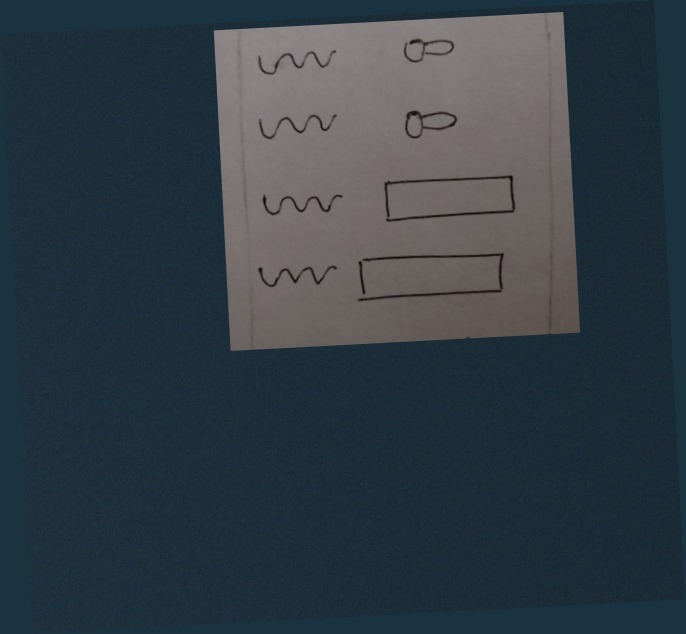switch: (399, 103, 475, 151), (394, 28, 462, 72)
text: (256, 180, 347, 227), (253, 255, 341, 297), (253, 105, 341, 145), (253, 42, 341, 81)
text_input: (350, 241, 510, 308), (376, 167, 522, 228)
